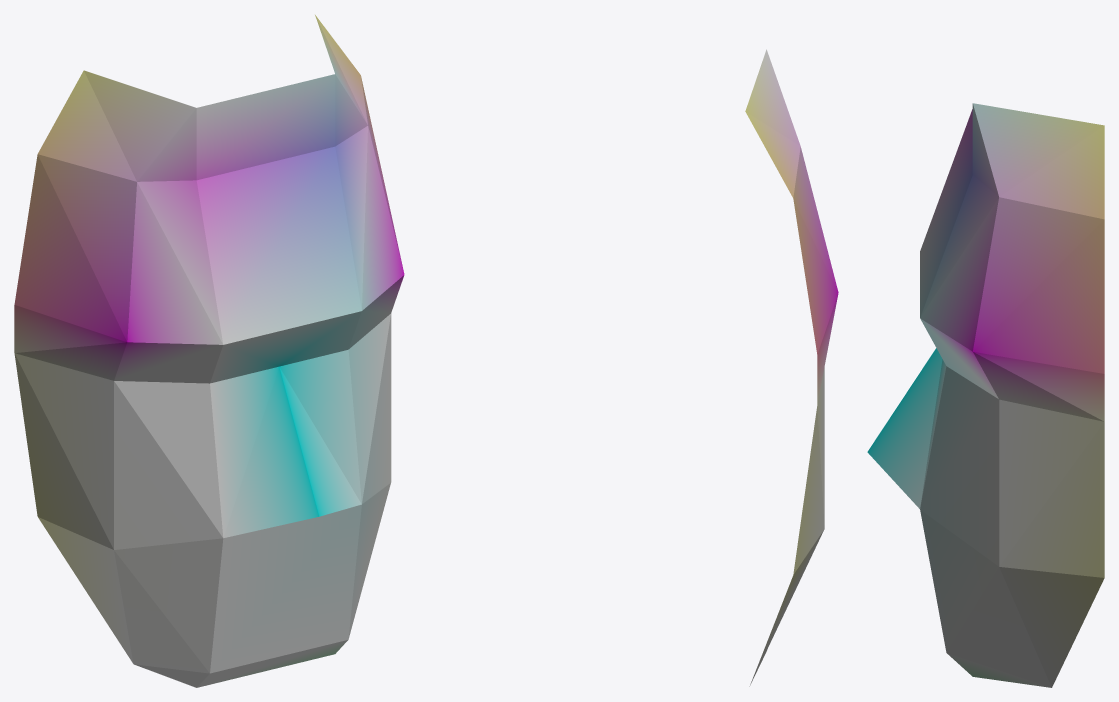
3 renders of one model, left to right at view 1: azimuth 30°, elevation 25°; view 2: azimuth 150°, elevation 25°; view 3: azimuth 270°, elevation 25°, orthographic. The views are drawn at different scales.
Parts seen in each view (by area): view 1: model_1411; view 2: model_1411; view 3: model_1411.
Part boxes in pixels (<box>): model_1411: <box>14,15,404,687</box>; model_1411: <box>745,49,838,686</box>; model_1411: <box>867,103,1104,687</box>.
Bounding box in the file's own units: 16 × 24 × 9.
